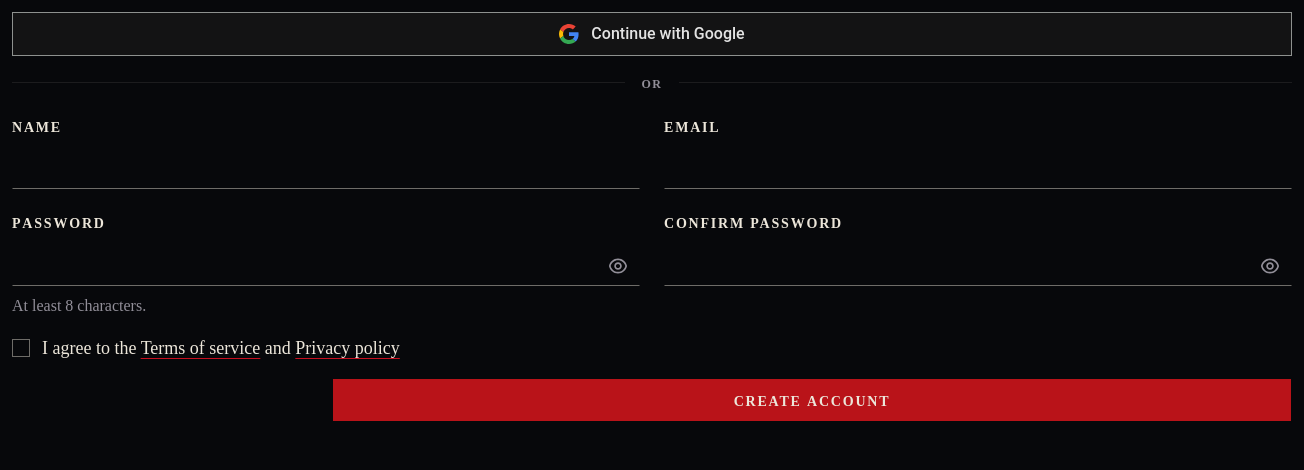
Scenario: RegisterForm › asks for the terms before making anything
In the field labelled "Name": (326, 169) [12, 149, 640, 189], type "Carrie White"
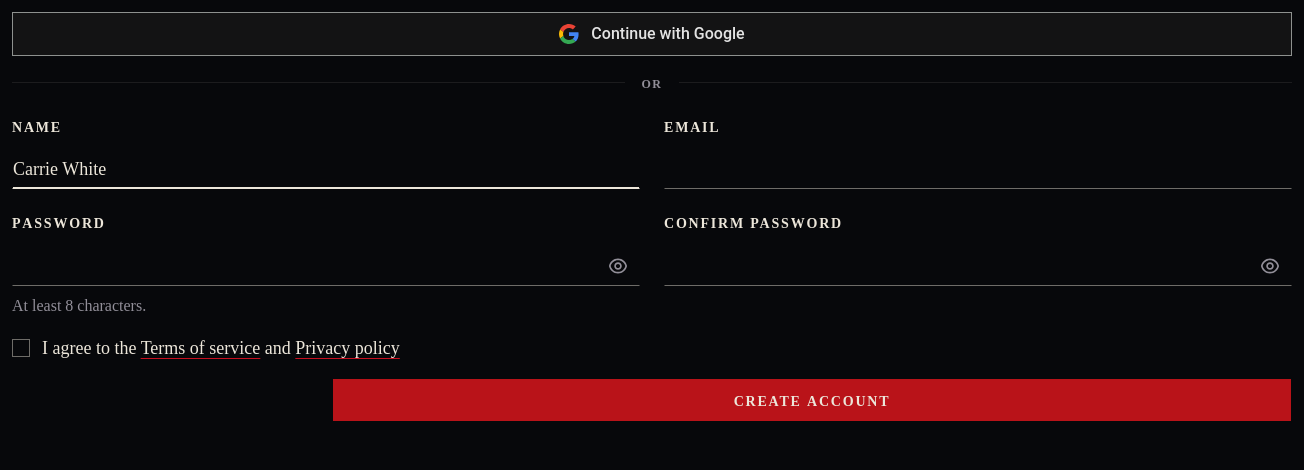
In the field labelled "Email": (978, 169) [664, 149, 1292, 189], type "carrie@example.com"
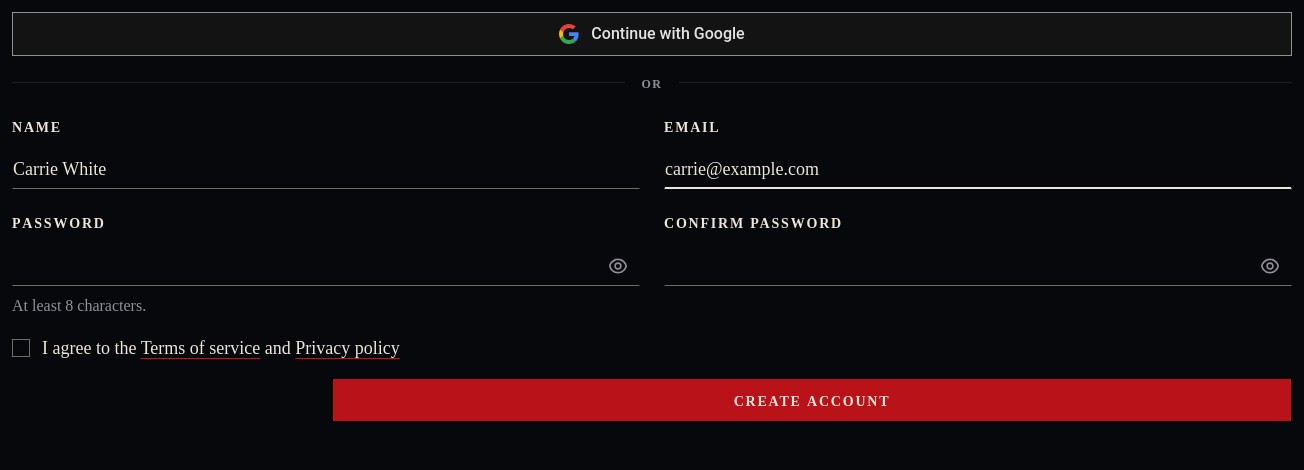
In the password field labelled "Password": (326, 266) [12, 246, 640, 286], type "prom night 1976"
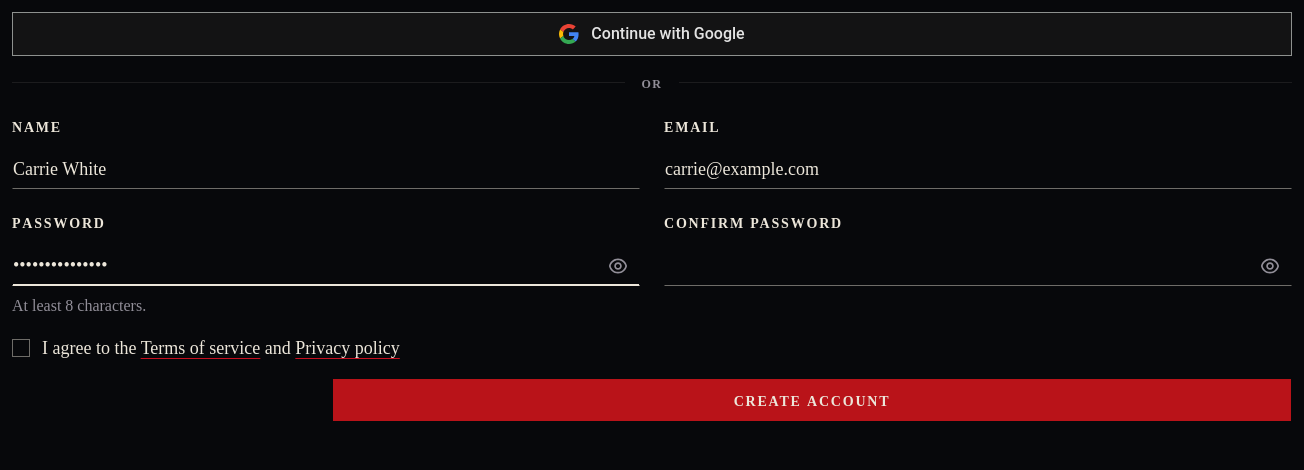
In the password field labelled "Confirm password": (978, 266) [664, 246, 1292, 286], type "prom night 1976"
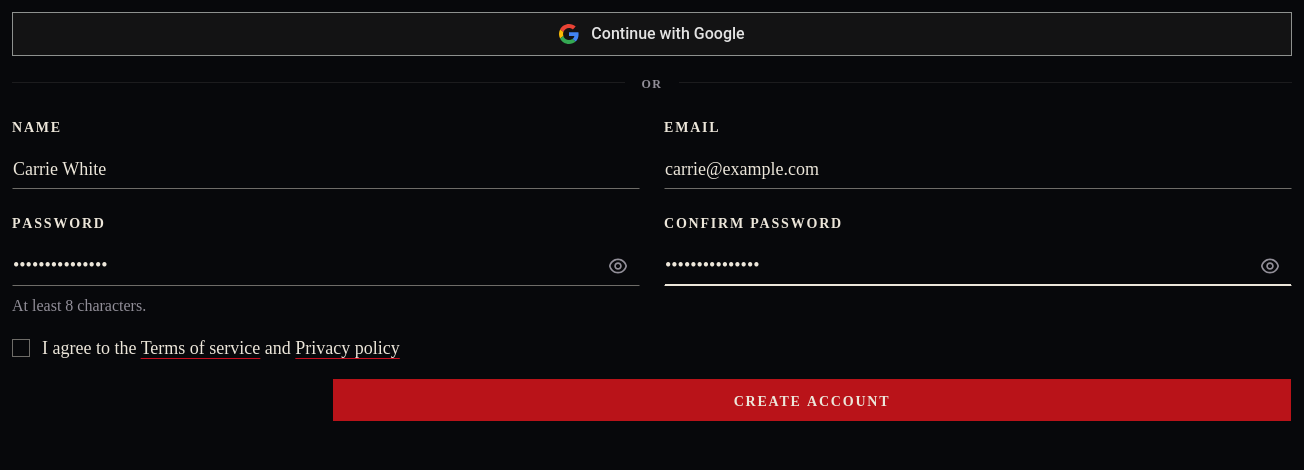
Click the button "Create account": (812, 400) [332, 378, 1292, 422]
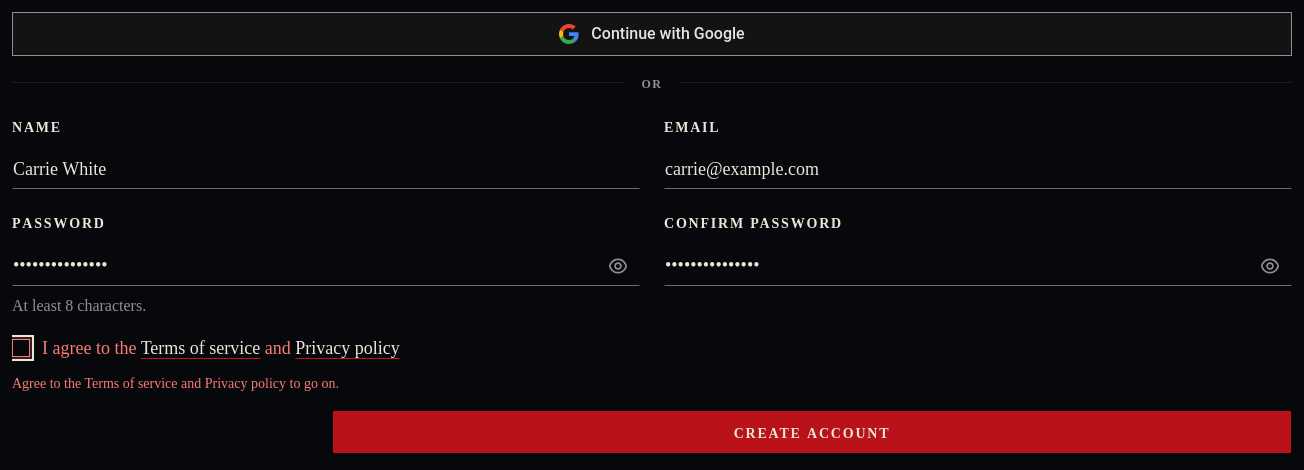
Now the text "Agree to the Terms of service and Privacy policy to go on." is shown, box [12, 376, 339, 391]
